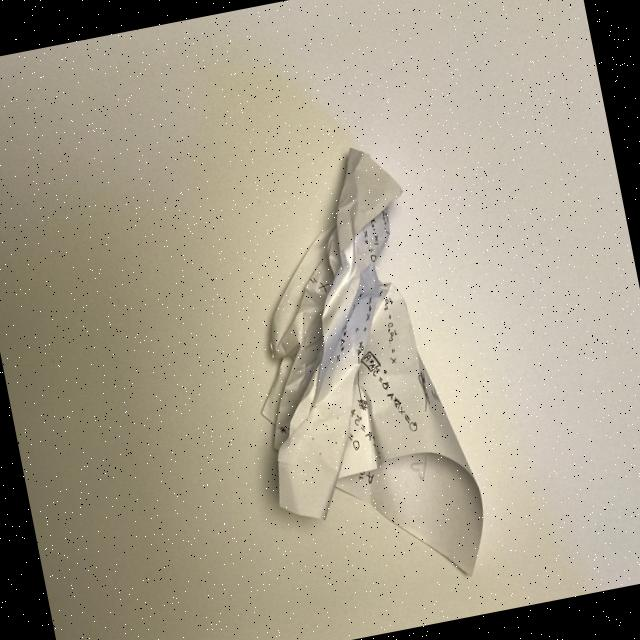paper: (214, 136, 496, 610)
